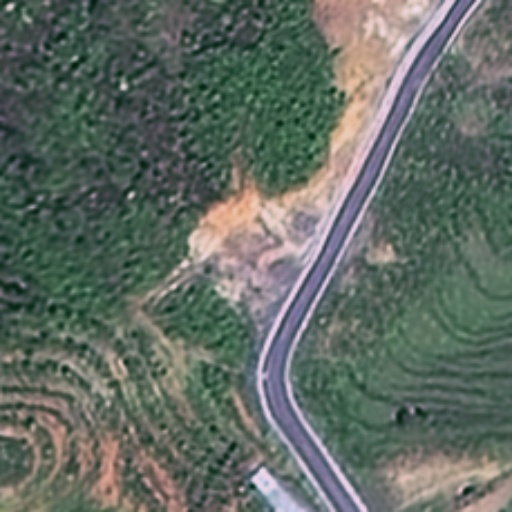landslide: (186, 180, 322, 268)
